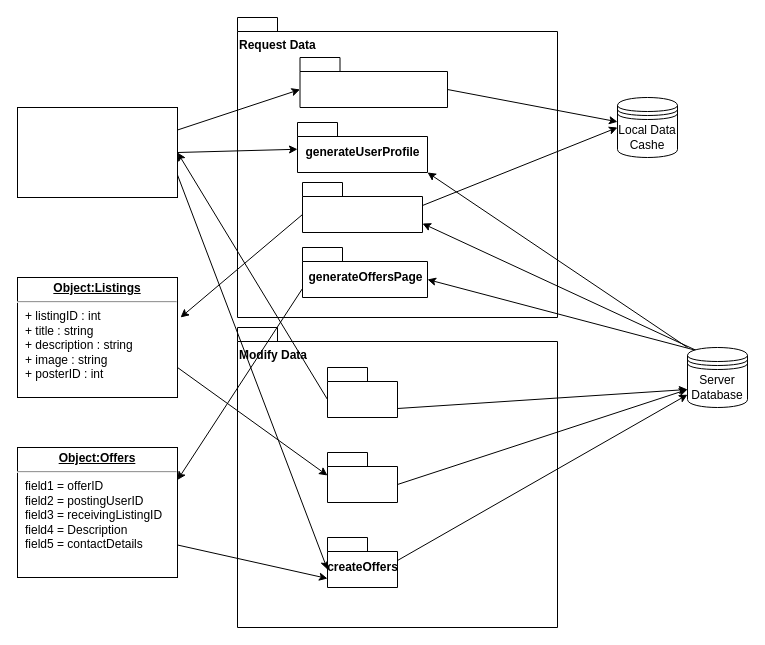
This 765x645 diagram has some shape labels left out. Each missing label, with the centre of its shape:
createListing: the point at 362,477
generateListingPage: the point at 362,207
generateOwnUserProfile: the point at 373,82
Object:User + userID : int + username : string + password : string: the point at 97,152
SignUp: the point at 362,392
